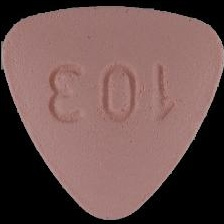16714-532: (0, 0, 224, 224)
